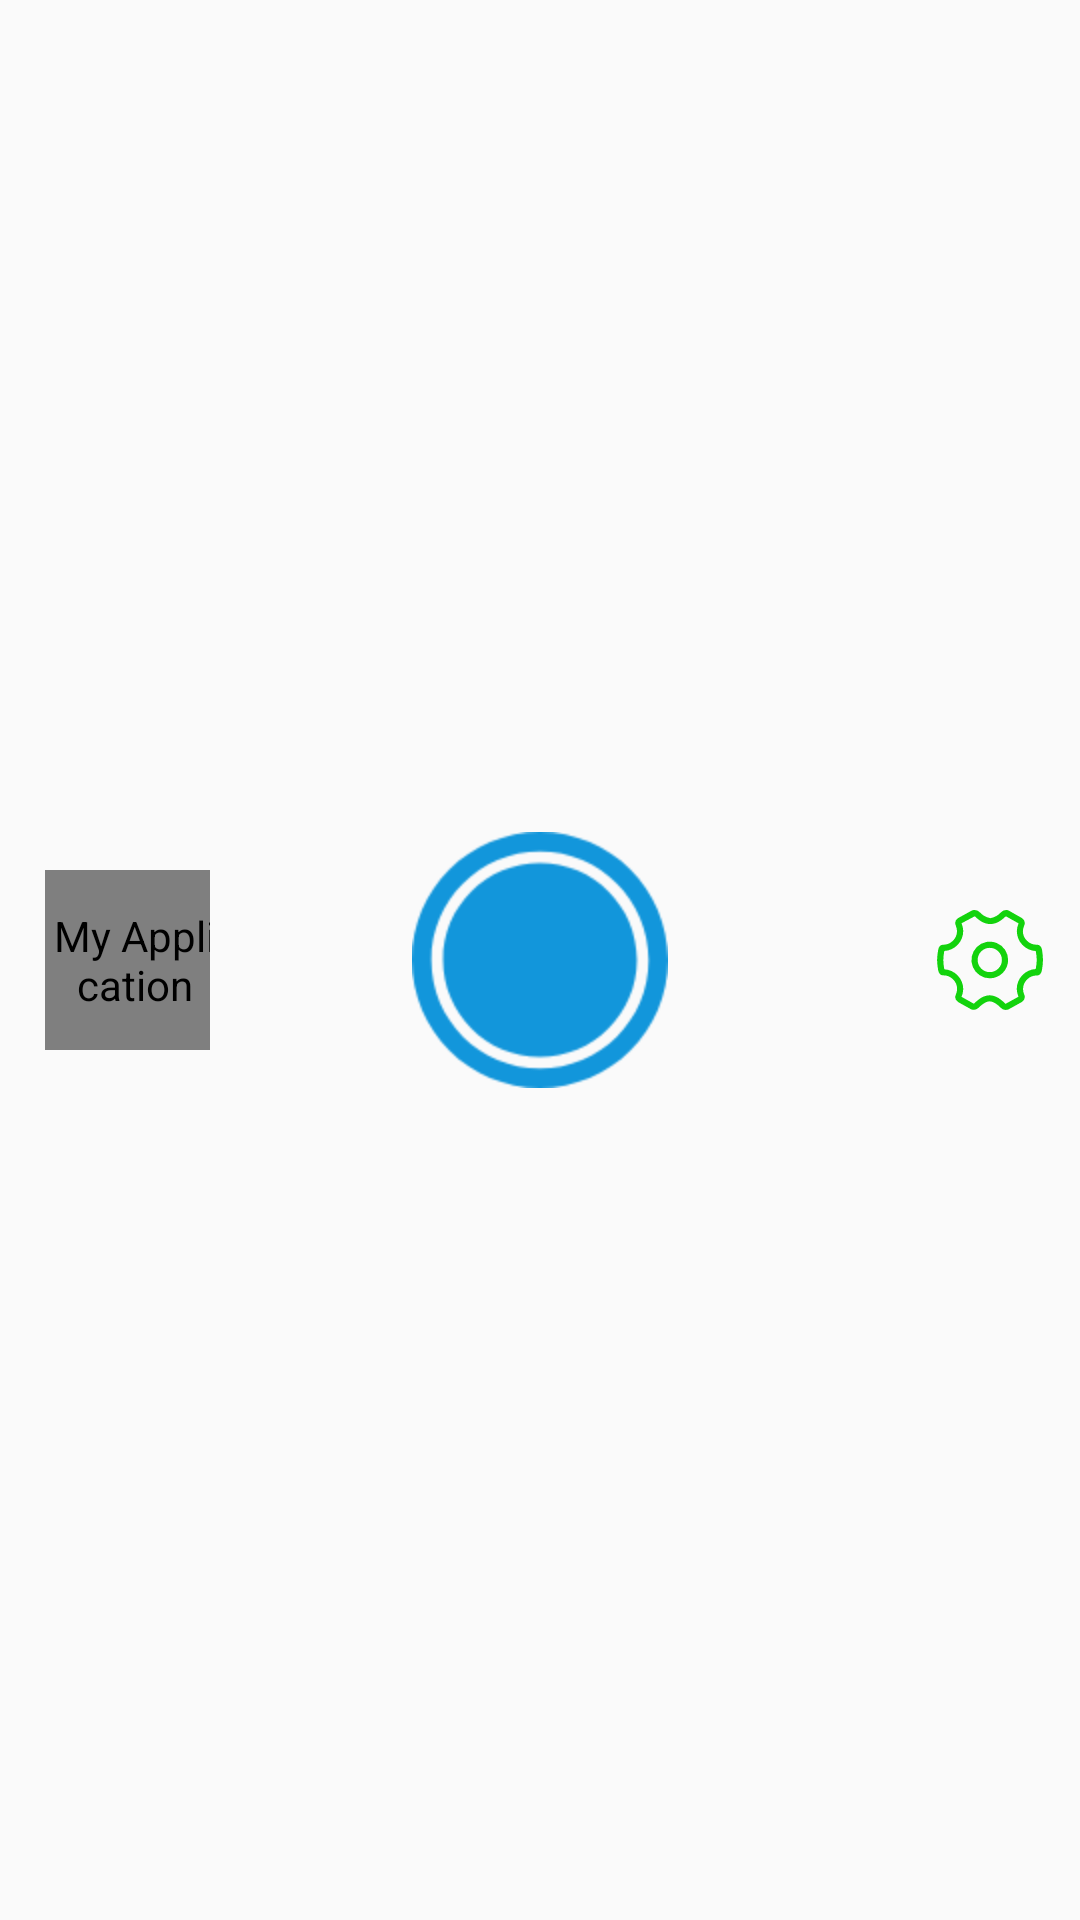

Point at icon controls on the screen. Image size 1080*1920, points as [x,y].
settings: [990,960]
